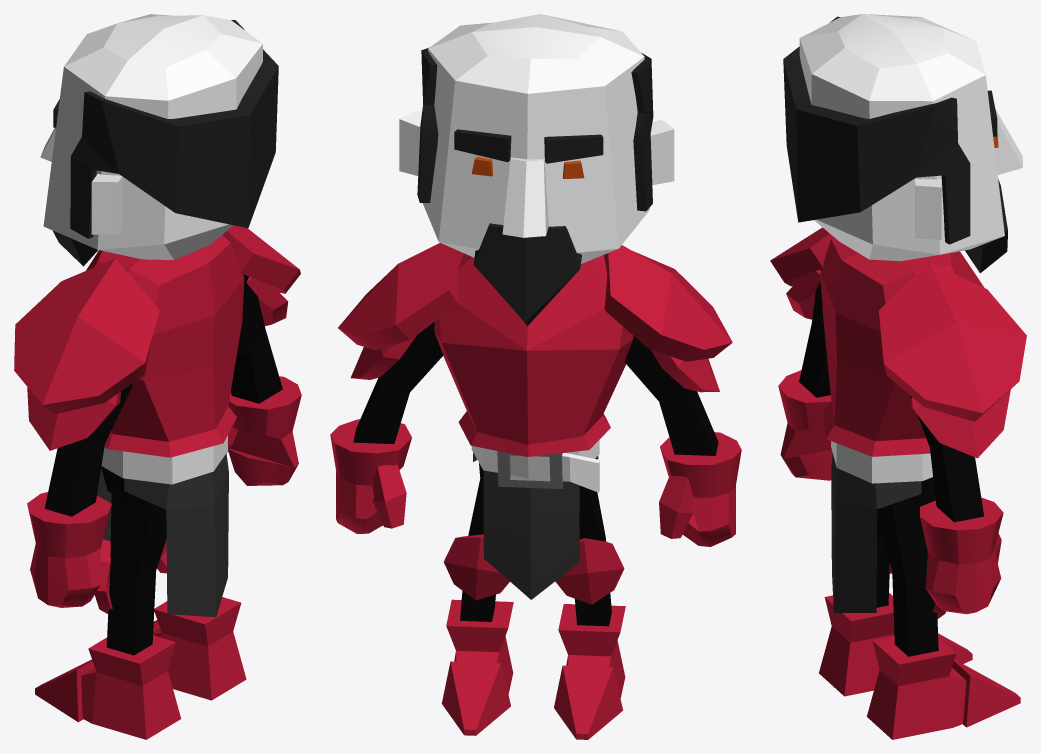
Rendered from npc4.glb.
3 renders of one model, left to right at view 1: azimuth 30°, elevation 25°; view 2: azimuth 150°, elevation 25°; view 3: azimuth 270°, elevation 25°, orthographic.
Parts seen in each view (by area): view 1: npc4; view 2: npc4; view 3: npc4.
Part boxes in pixels (<box>): npc4: <box>14,14,301,739</box>; npc4: <box>330,14,741,739</box>; npc4: <box>770,14,1026,739</box>.
Size of the model in its own units: 0.8507 by 1.64 by 0.5704.
Materials: 1 (1 with a texture image).
